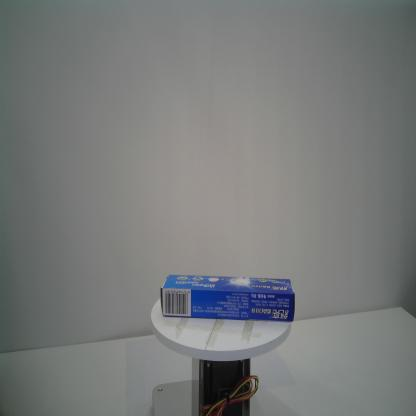Personal Hygiene: (157, 271, 296, 324)
